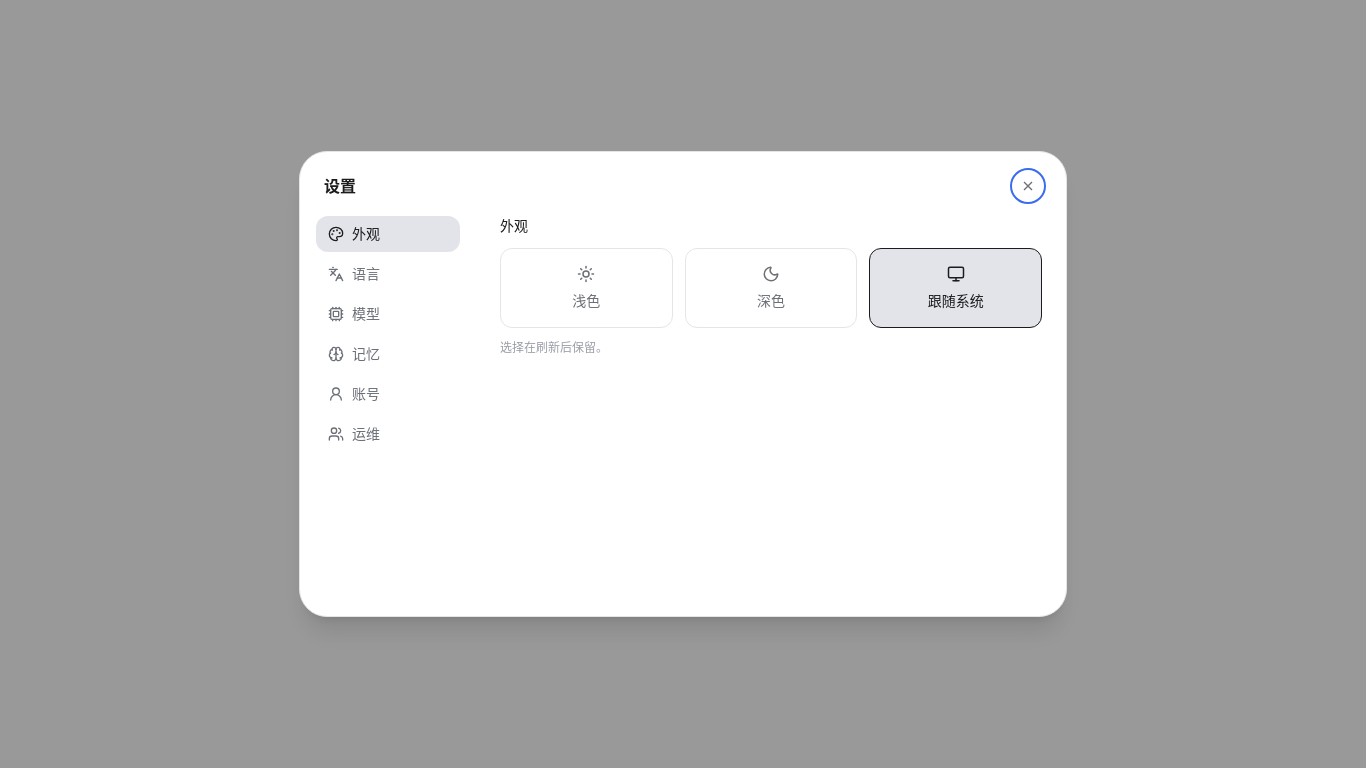
Test: OpsPane table › cancels with Escape without closing the dialog, and restores the default on request
This screenshot has width=1366, height=768.
Click the button "运维" at (388, 434), box x1=316 y1=416 x2=460 y2=452
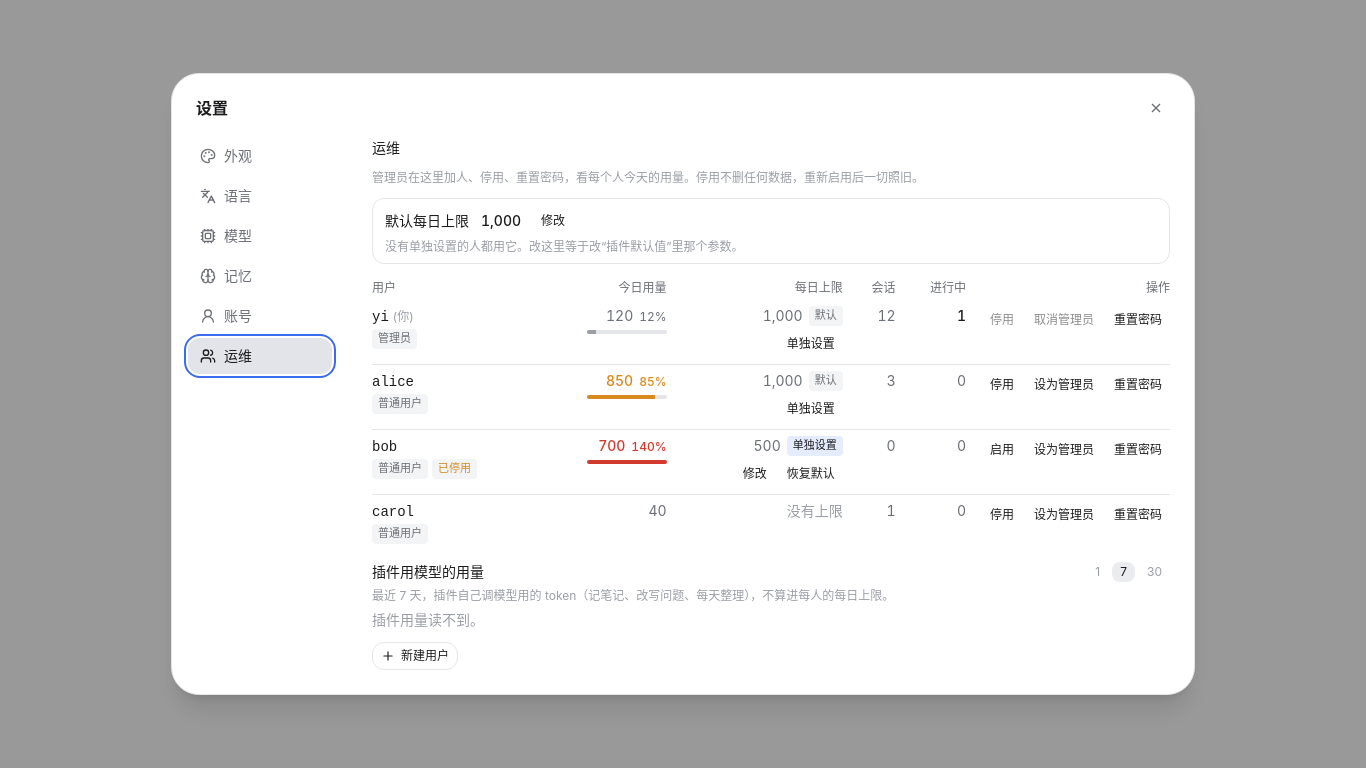
Result: the text "bob" is shown at x1=372 y1=439 x2=397 y2=455
Click the button with aria-label "修改 bob 的每日上限" at (755, 474), box x1=735 y1=460 x2=775 y2=488
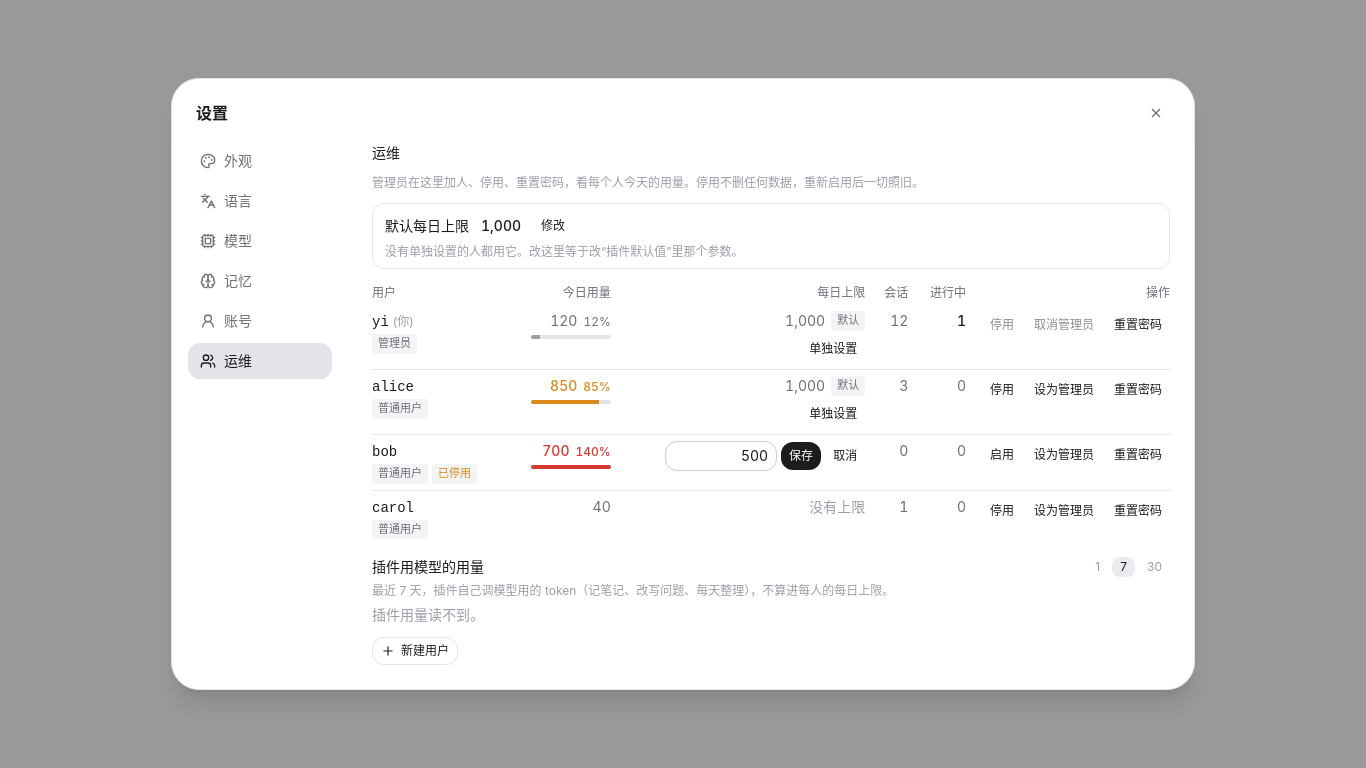
Type "9" into the field named "bob 的每日上限" at (721, 456), box x1=665 y1=441 x2=777 y2=471
Then press Escape
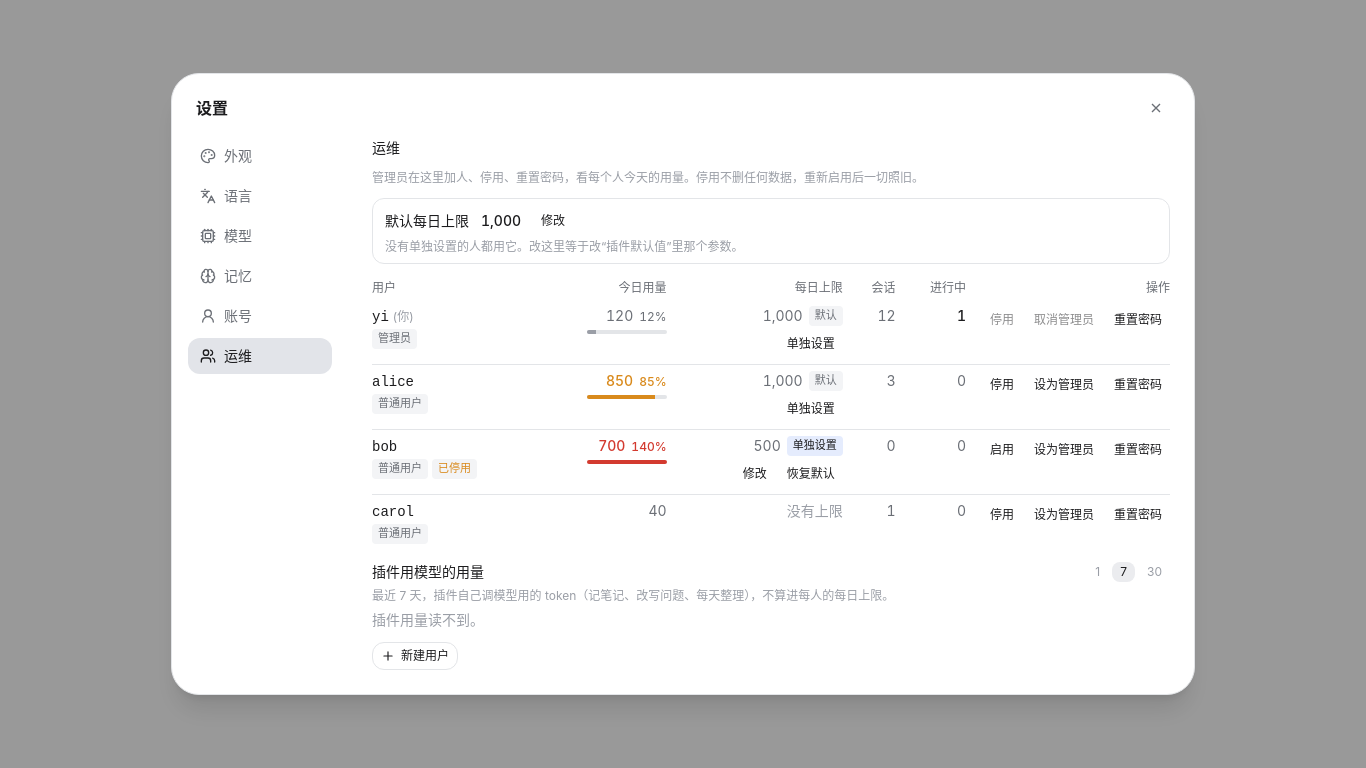
Result: the text "alice" is shown at x1=372 y1=374 x2=414 y2=390
Result: the field is gone
Click the button with aria-label "把 bob 的每日上限恢复默认" at (811, 474), box x1=779 y1=460 x2=843 y2=488
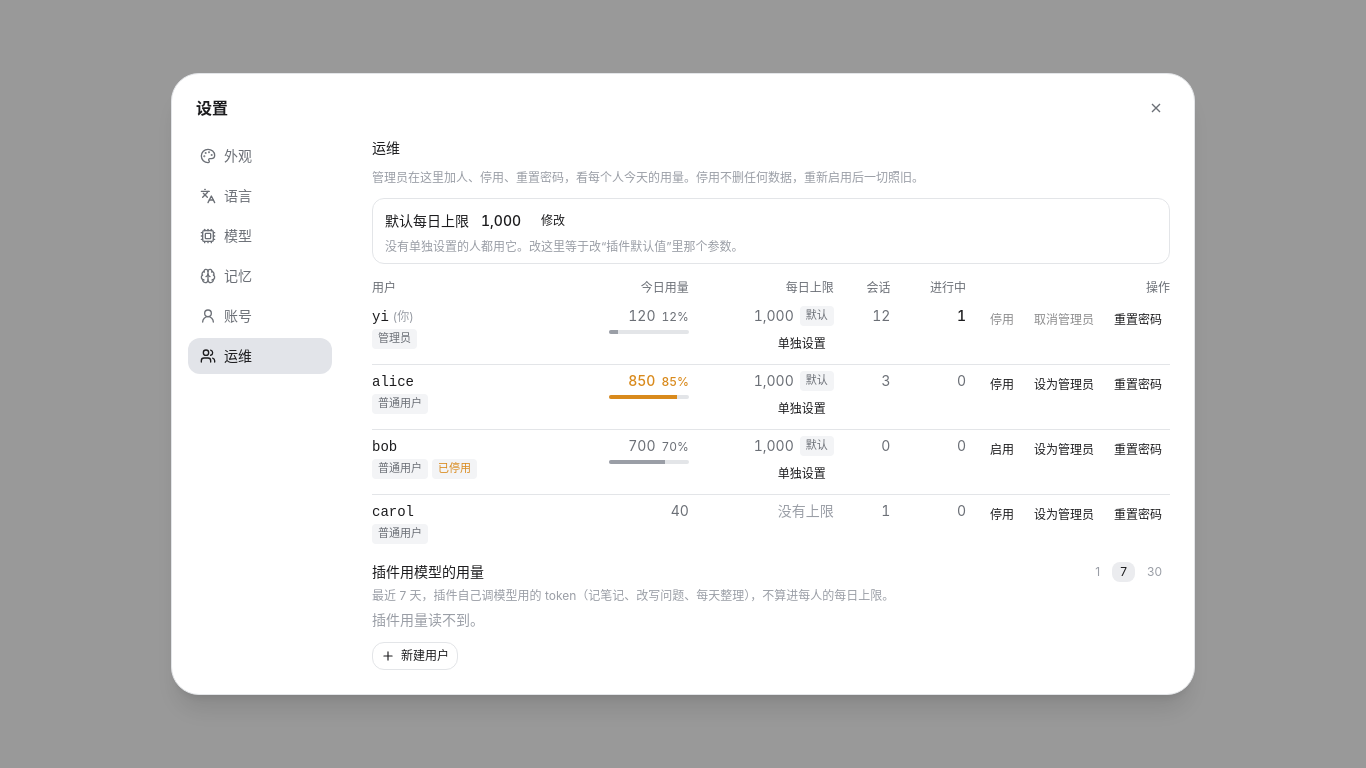
Result: the text "默认" in the row of "bob" is shown at x1=806 y1=438 x2=828 y2=452
